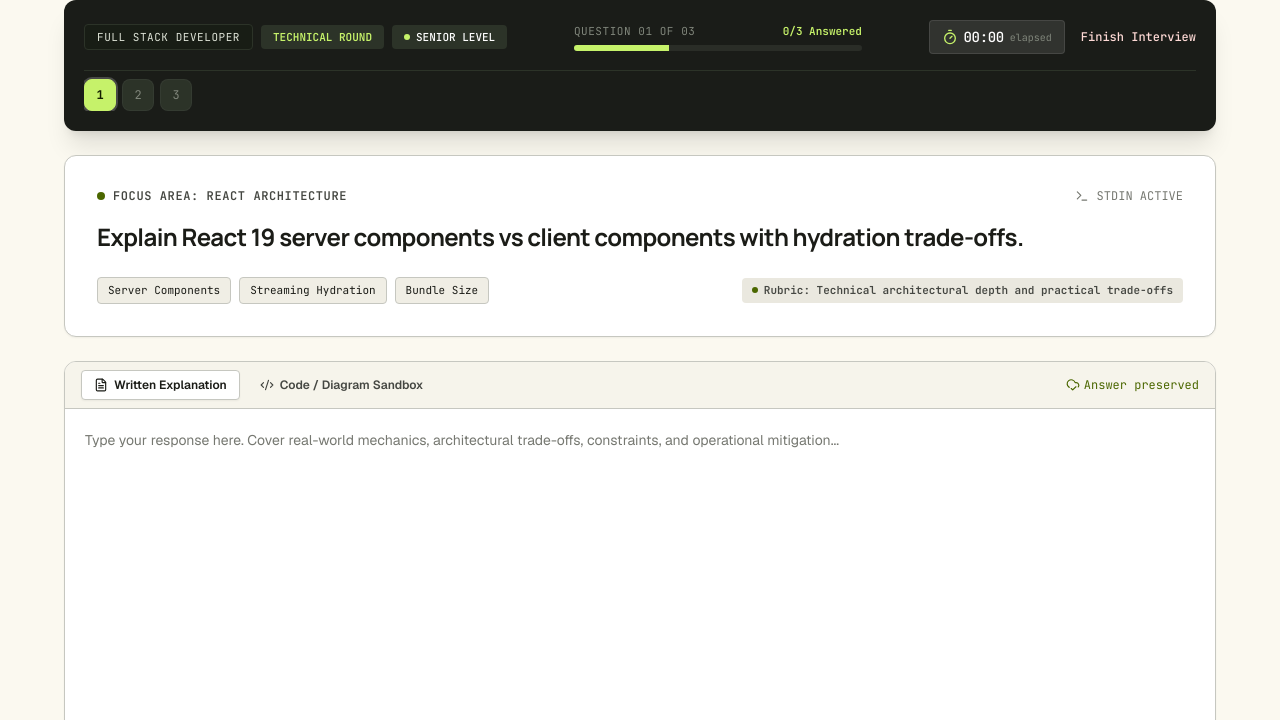
Scenario: TASK 2 & 5: Question Navigation & Text Diversity in InterviewArenaPage › preserves answer when navigating forward and backward
// Type answer for Question 1
Replace the text in the text box with placeholder "Type your response here" with "Server components run exclusively on the server.": x=640, y=565 [85, 428, 1195, 702]
(page scrolled)
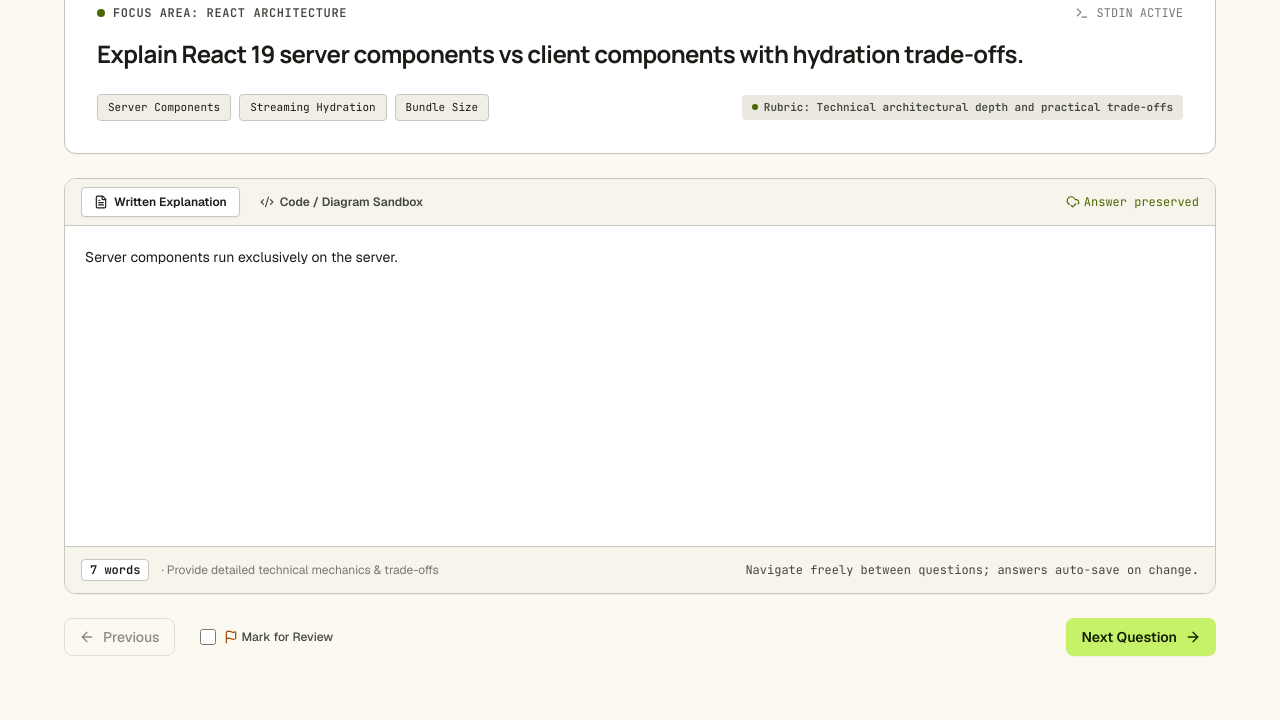
// Navigate to Question 2
Click the button "Next Question": x=1141, y=636 [1066, 618, 1216, 656]
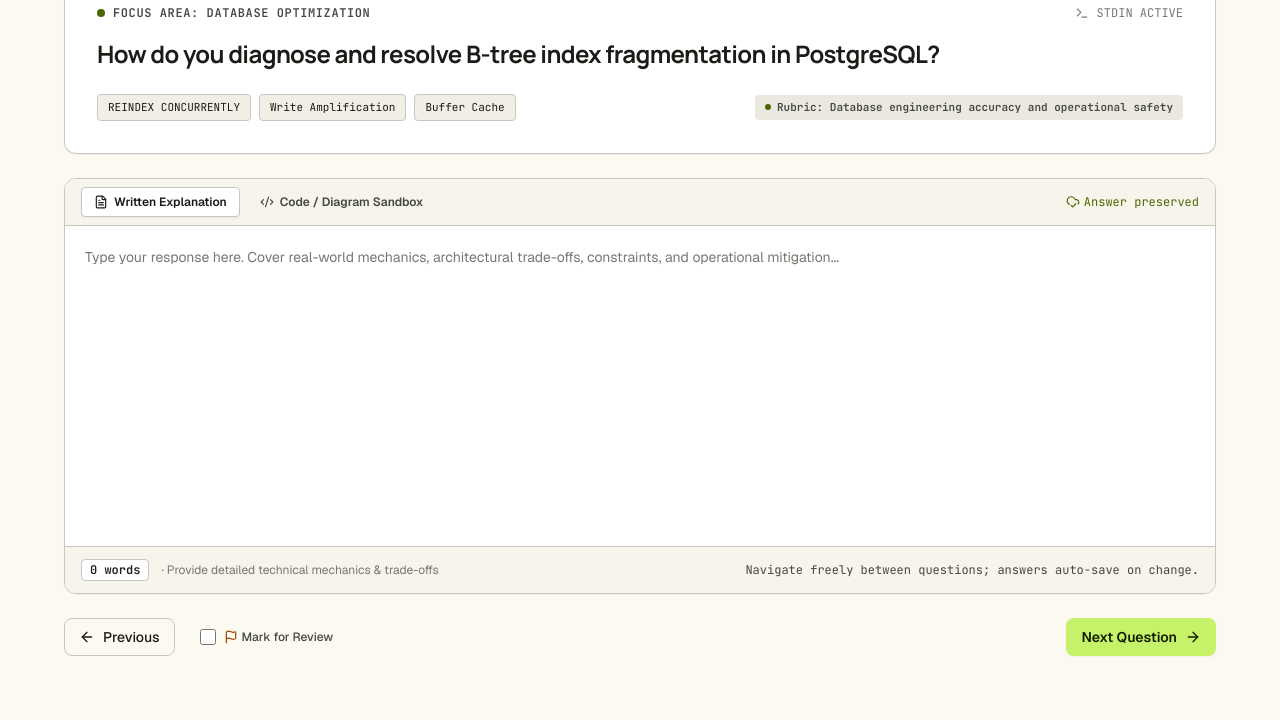
Expected: the text box with placeholder "Type your response here" is empty, [85, 246, 1195, 518]
// Navigate back to Question 1
Click the button "Previous": x=119, y=636 [64, 618, 174, 656]
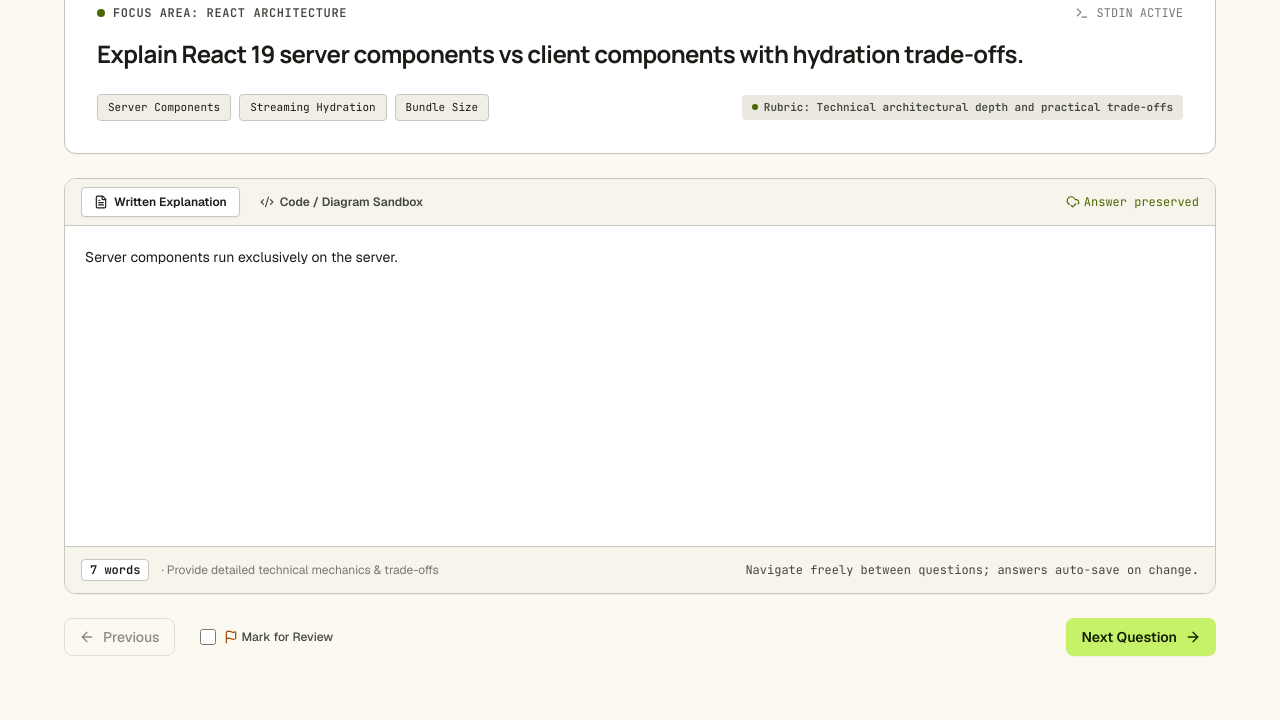
Expected: the text "Focus Area: React Architecture" is shown, [113, 5, 347, 21]
